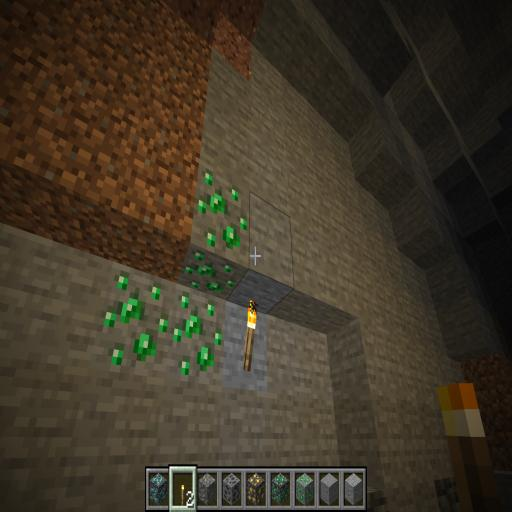emerald ore: (100, 164, 246, 401)
